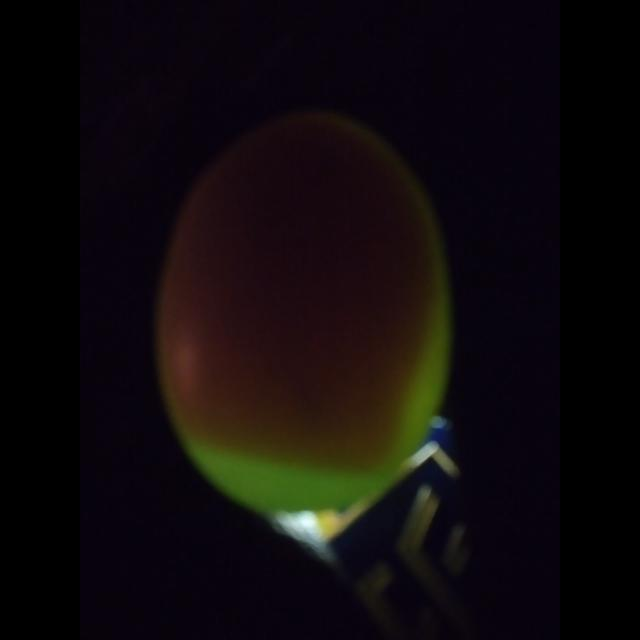Infertile: (155, 99, 457, 523)
